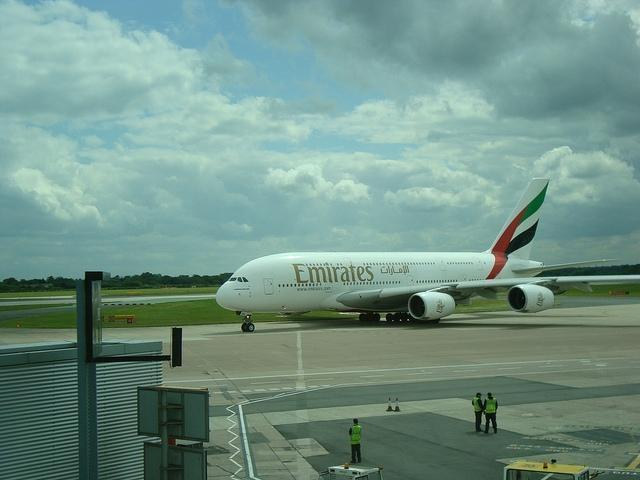truck: (504, 460, 590, 480), (317, 462, 383, 480)
